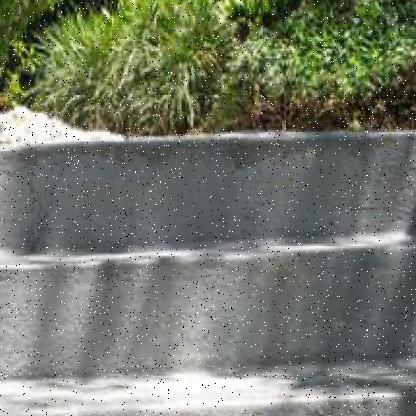stair_up: (23, 130, 375, 334)
